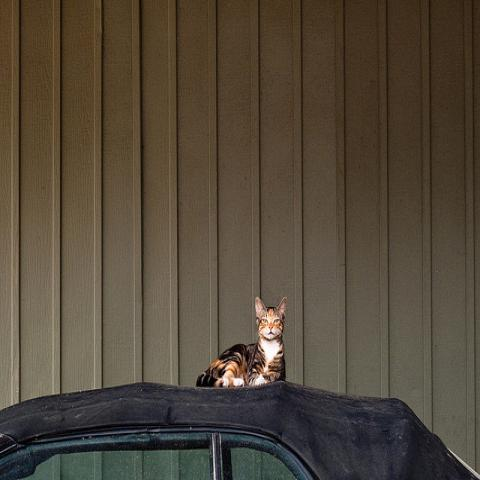car: (0, 381, 479, 479)
